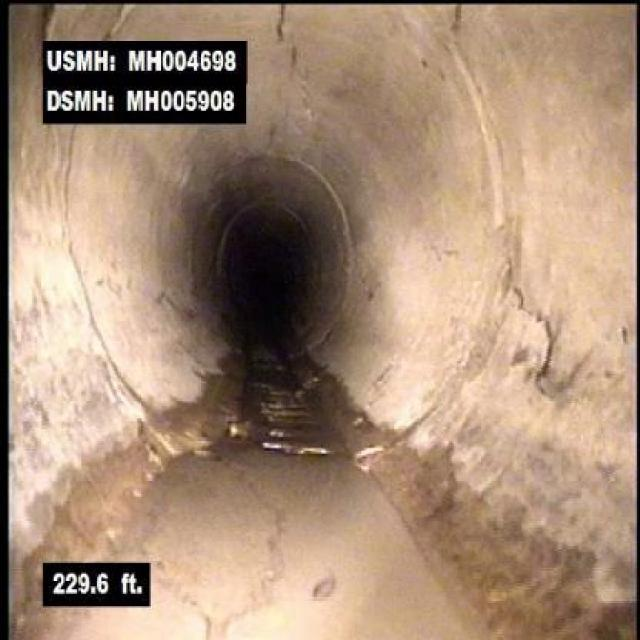Crack: (232, 455, 288, 560), (512, 283, 560, 399), (217, 562, 286, 638), (160, 568, 217, 638), (271, 8, 311, 88), (448, 6, 468, 40)
